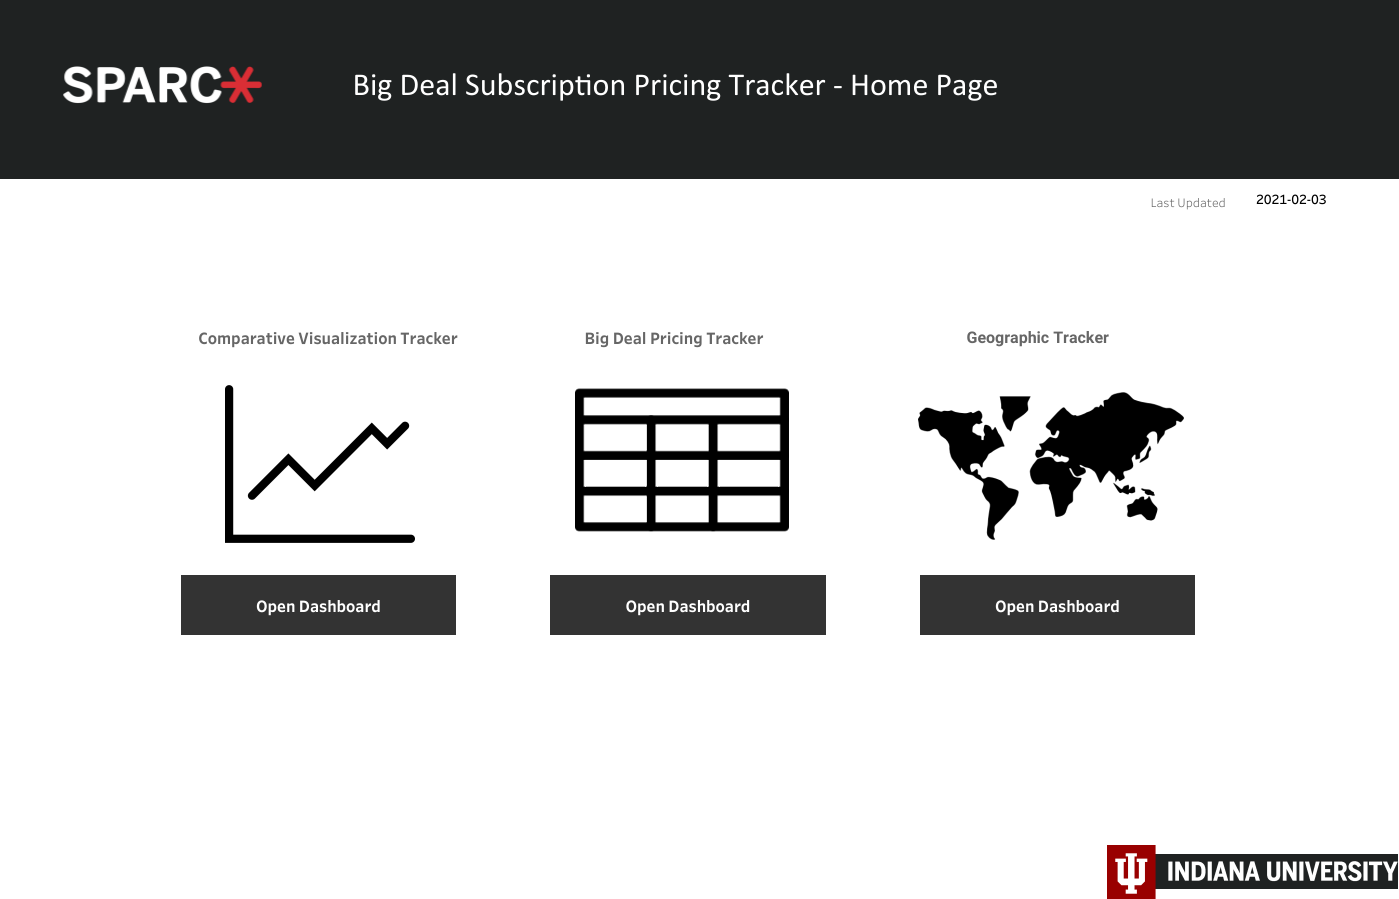

The page's visual inventory and layout, read from the dashboard file:
{"tool":"tableau","page":{"name":"Home","canvas":[1400,900],"ordinal":1},"visuals":[{"type":"worksheet","param":"Image/sparc-logo-gray2.png","box":[15.1,7.9,296.2,157.5]},{"type":"worksheet","box":[350,57.4,957.4,58.5]},{"type":"worksheet","box":[933.7,156.4,466.3,111.4]},{"type":"worksheet","box":[1148,167.6,112,68.6]},{"type":"worksheet","title":"UpdatedTime","mark":"Automatic","box":[1252.5,189,142.2,48.4]},{"type":"worksheet","box":[133.5,304.9,388.8,65.2]},{"type":"worksheet","box":[581.5,304.9,271.4,65.2]},{"type":"worksheet","box":[963.8,304.9,312.3,65.2]},{"type":"worksheet","param":"Image/globe.png","box":[917.5,333,325.2,265.5]},{"type":"worksheet","param":"Image/237519-200.png","box":[575.1,353.2,214.3,220.5]},{"type":"worksheet","param":"Image/img_223340.png","box":[225.1,384.7,215.4,158.6]},{"type":"worksheet","box":[180.6,574.9,275.8,59.6]},{"type":"worksheet","box":[550.3,574.9,275.7,59.6]},{"type":"worksheet","box":[919.7,574.9,275.7,59.6]},{"type":"worksheet","param":"Image/black.png","box":[1109.2,853.9,288.6,45]}]}

Visuals, with their boxes in screenshot pixels (x1, y1, x2, y2), scaled from the page's 1400x900 canvas onto the 1399x899 screenshot:
worksheet: 15 8 311 165
worksheet: 350 57 1306 116
worksheet: 933 156 1398 268
worksheet: 1147 167 1259 236
"UpdatedTime" worksheet: 1252 189 1394 237
worksheet: 133 305 522 370
worksheet: 581 305 852 370
worksheet: 963 305 1275 370
worksheet: 917 333 1242 598
worksheet: 575 353 789 573
worksheet: 225 384 440 543
worksheet: 180 574 456 634
worksheet: 550 574 825 634
worksheet: 919 574 1195 634
worksheet: 1108 853 1397 898
